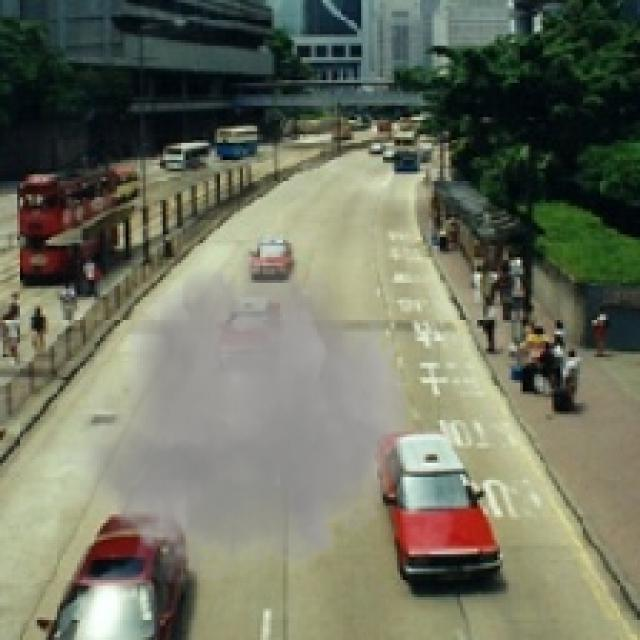Smoke: (57, 220, 417, 600)
